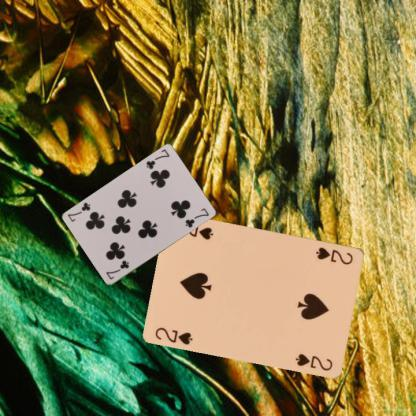2s: (313, 244, 355, 266), (153, 324, 194, 346)
7c: (144, 147, 170, 171), (104, 258, 130, 281)
